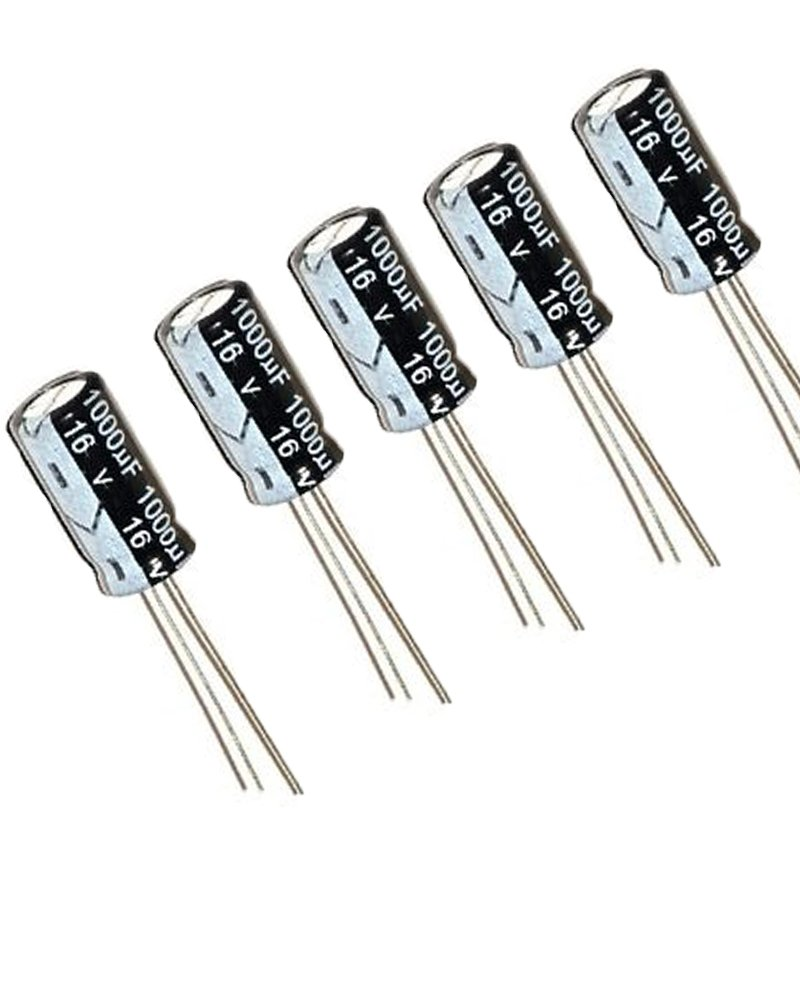capacitor: (114, 232, 364, 631), (402, 96, 645, 483), (259, 174, 499, 563), (5, 317, 215, 726), (529, 35, 776, 364)
